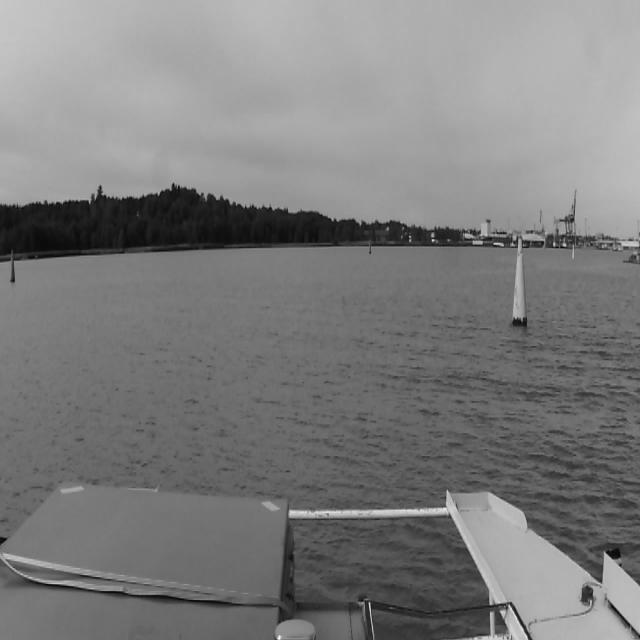buoy: (514, 235, 526, 325), (8, 254, 15, 284)
